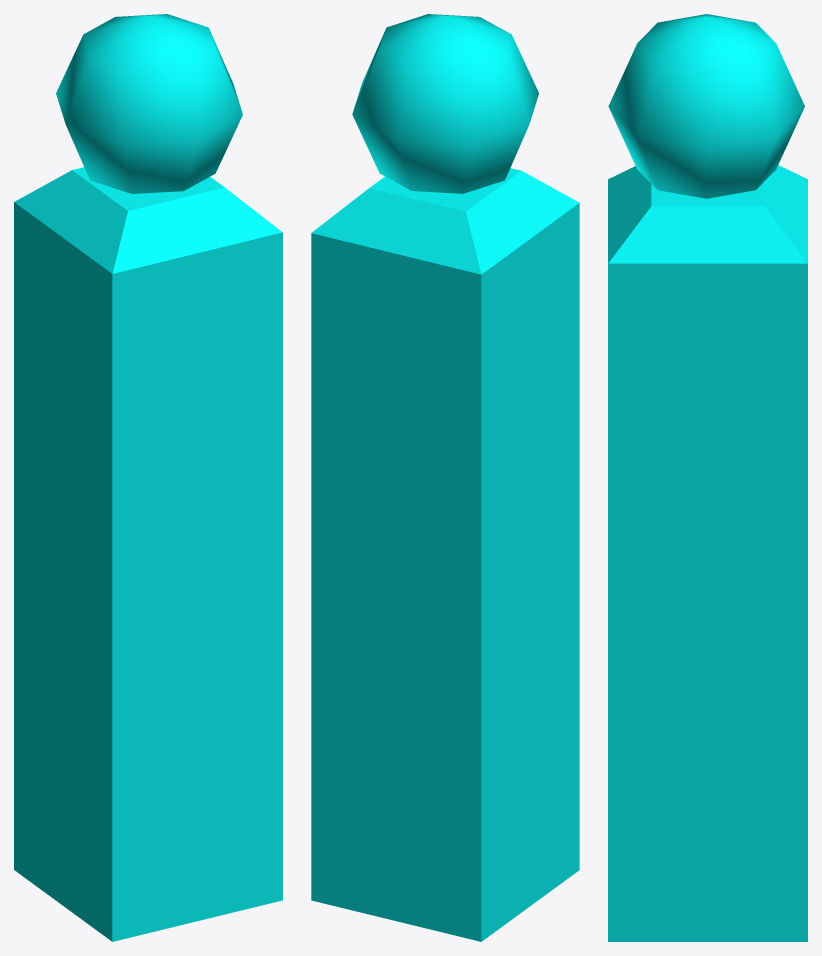
The model's file is EscapeRouteRailingCornerPiece.FBX.
3 renders of one model, left to right at view 1: azimuth 30°, elevation 25°; view 2: azimuth 150°, elevation 25°; view 3: azimuth 270°, elevation 25°, orthographic.
Parts seen in each view (by area): view 1: HandRailingEscapeRoute; view 2: HandRailingEscapeRoute; view 3: HandRailingEscapeRoute.
Part boxes in pixels (x1,y1,x2,y2): HandRailingEscapeRoute: (14,14,282,941); HandRailingEscapeRoute: (311,14,579,941); HandRailingEscapeRoute: (608,14,807,941).
Bounding box in the file's own units: 50.2 × 50.2 × 245.
